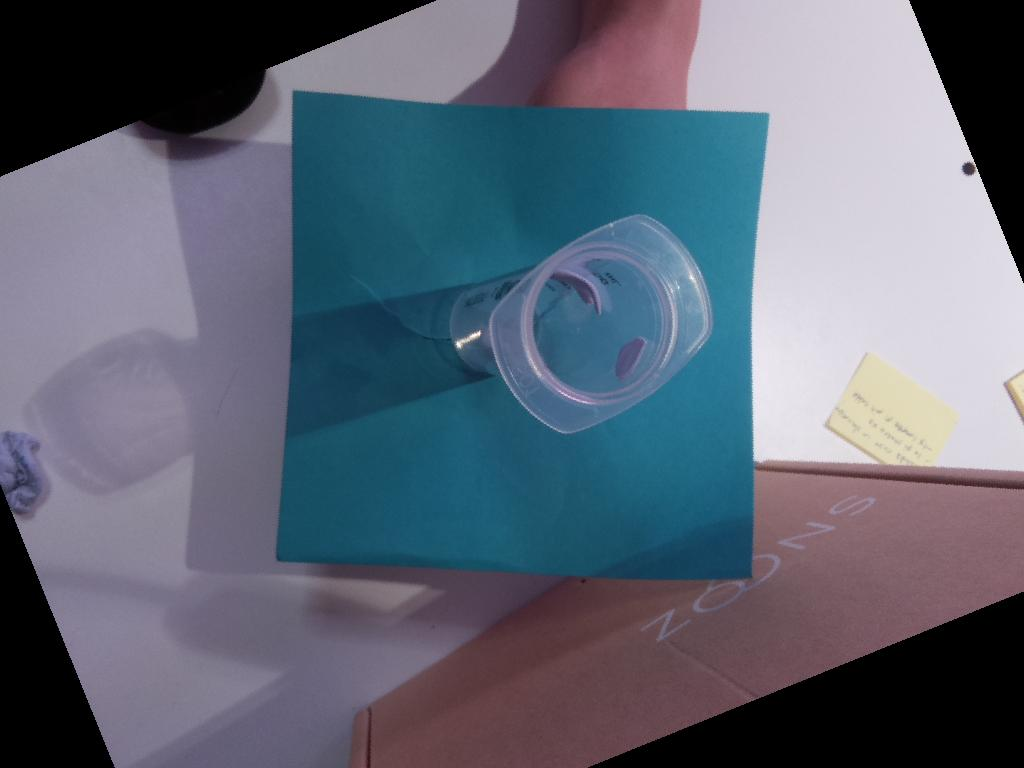dirty: (490, 214, 713, 434)
